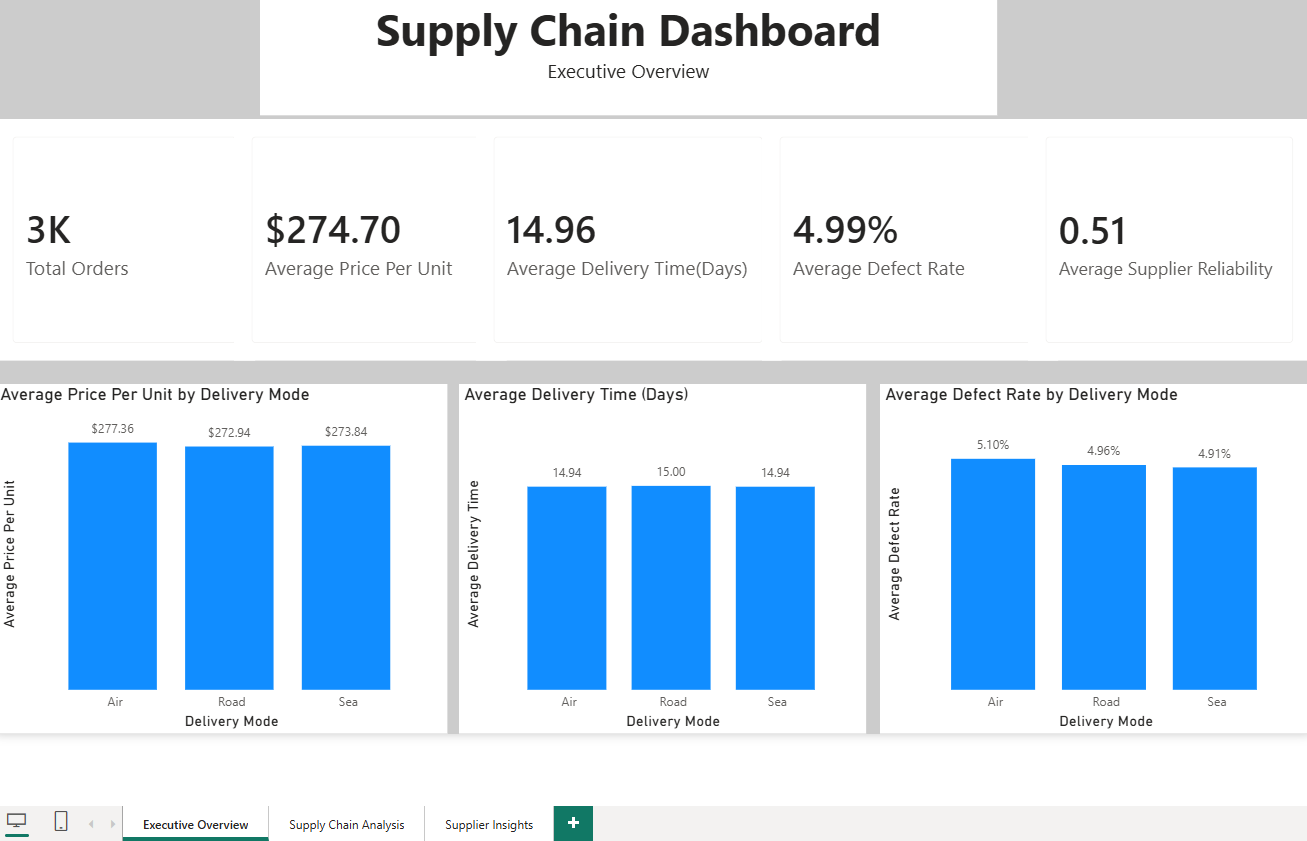

Layout of this report page (visuals, bound fields, positions):
{"tool":"powerbi","page":{"name":"Executive Overview","canvas":[1280,720],"ordinal":0},"visuals":[{"type":"textbox","box":[257.8,0,716.8,117.7],"z":0},{"type":"cardVisual","fields":{"Data":["Supply_chain_dataset.Total Orders"]},"box":[0,121.6,252.9,235.4],"z":1000},{"type":"cardVisual","fields":{"Data":["Supply_chain_dataset.Average Price Per Unit"]},"box":[232.5,121.6,264.6,235.4],"z":2000},{"type":"cardVisual","fields":{"Data":["Supply_chain_dataset.Average Delivery Time"]},"box":[467.8,121.6,296.7,235.4],"z":3000},{"type":"cardVisual","fields":{"Data":["Supply_chain_dataset.Average Defect Rate"]},"box":[746,121.6,287.9,235.4],"z":4000},{"type":"cardVisual","fields":{"Data":["Supply_chain_dataset.Average Supplier Reliability"]},"box":[1004.7,121.6,275.3,235.4],"z":5000},{"type":"clusteredColumnChart","fields":{"Category":["Supply_chain_dataset.delivery_mode"],"Y":["Supply_chain_dataset.Average Price Per Unit"]},"box":[0,379.3,439.6,340.4],"z":6000},{"type":"clusteredColumnChart","title":"Average Delivery Time (Days) ","fields":{"Category":["Supply_chain_dataset.delivery_mode"],"Y":["Supply_chain_dataset.Average Delivery Time"]},"box":[451.3,379.3,395.9,340.4],"z":7000},{"type":"clusteredColumnChart","fields":{"Category":["Supply_chain_dataset.delivery_mode"],"Y":["Supply_chain_dataset.Average Defect Rate"]},"box":[860.8,379.3,419.2,340.4],"z":8000}]}

Visuals, with their boxes on the page's 1280x720 design canvas (x1, y1, x2, y2). These are canvas units, not pixel positions in the 1307x841 screenshot, which may show the page scaled, cropped or inside an application window:
textbox: pyautogui.locateOnScreen(258, 0, 975, 118)
cardVisual - Supply_chain_dataset.Total Orders: pyautogui.locateOnScreen(0, 122, 253, 357)
cardVisual - Supply_chain_dataset.Average Price Per Unit: pyautogui.locateOnScreen(232, 122, 497, 357)
cardVisual - Supply_chain_dataset.Average Delivery Time: pyautogui.locateOnScreen(468, 122, 764, 357)
cardVisual - Supply_chain_dataset.Average Defect Rate: pyautogui.locateOnScreen(746, 122, 1034, 357)
cardVisual - Supply_chain_dataset.Average Supplier Reliability: pyautogui.locateOnScreen(1005, 122, 1280, 357)
clusteredColumnChart - Supply_chain_dataset.delivery_mode x Supply_chain_dataset.Average Price Per Unit: pyautogui.locateOnScreen(0, 379, 440, 720)
"Average Delivery Time (Days) " clusteredColumnChart: pyautogui.locateOnScreen(451, 379, 847, 720)
clusteredColumnChart - Supply_chain_dataset.delivery_mode x Supply_chain_dataset.Average Defect Rate: pyautogui.locateOnScreen(861, 379, 1280, 720)
